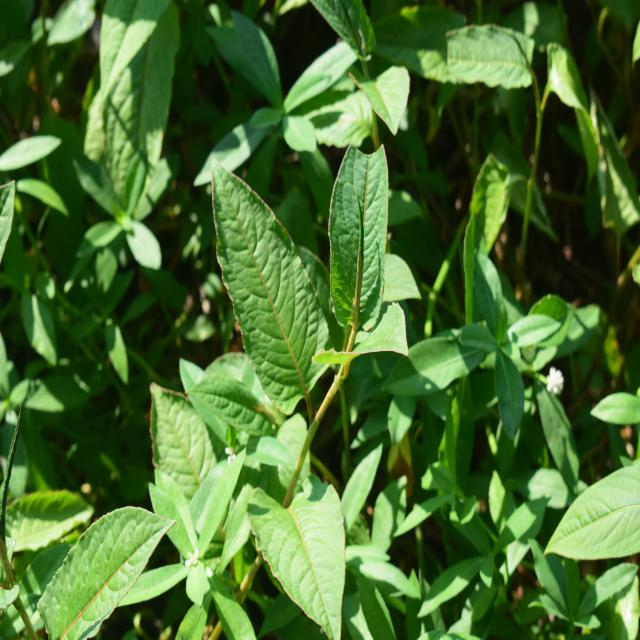Chinese_knotweed: (206, 141, 413, 608)
